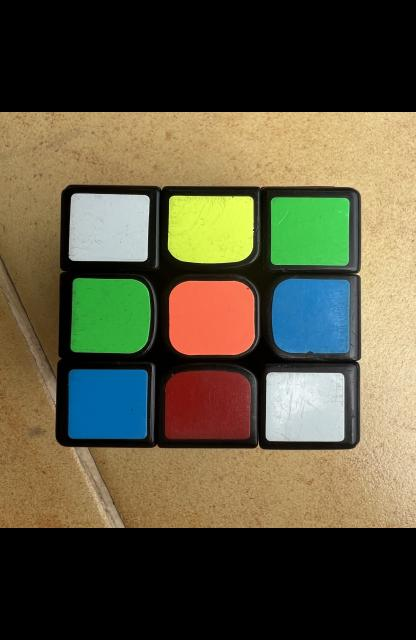Blue: (270, 279, 349, 354), (67, 370, 147, 439)
Green: (69, 278, 149, 354), (269, 198, 349, 266)
Orange: (168, 281, 254, 356)
Red: (164, 371, 250, 439)
White: (68, 193, 149, 262), (264, 372, 344, 441)
Yellow: (167, 195, 253, 264)
